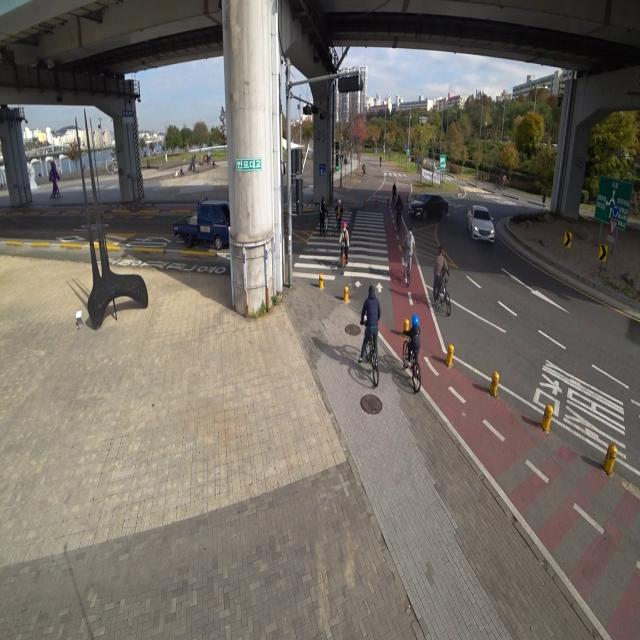Car: (402, 181, 452, 224), (465, 196, 500, 250)
Motorcycle: (401, 312, 421, 394)
Truck: (168, 190, 240, 256)
